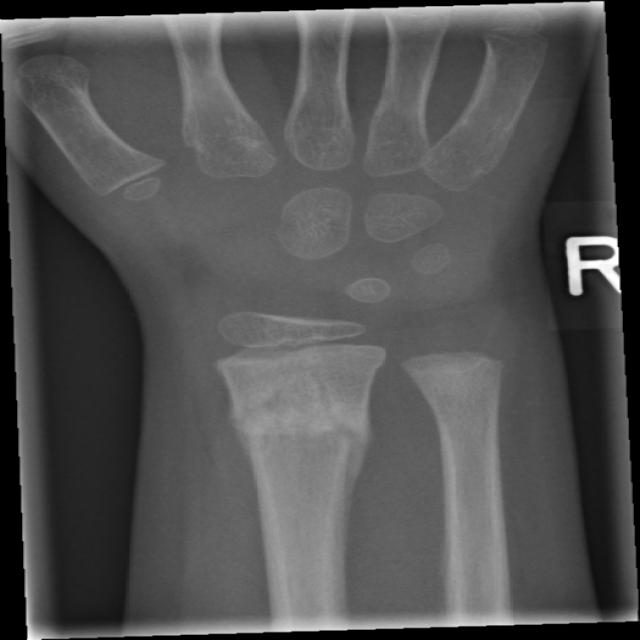radius fracture: (205, 378, 392, 500)
